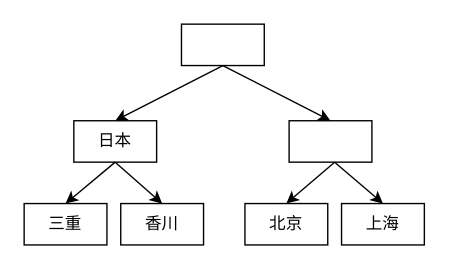
Some shapes in this 449 by 269 pixel diagram are drawn without their labels. Each missing label, with the box of its shape:
世界: (180, 23, 264, 66)
中国: (288, 119, 372, 162)
